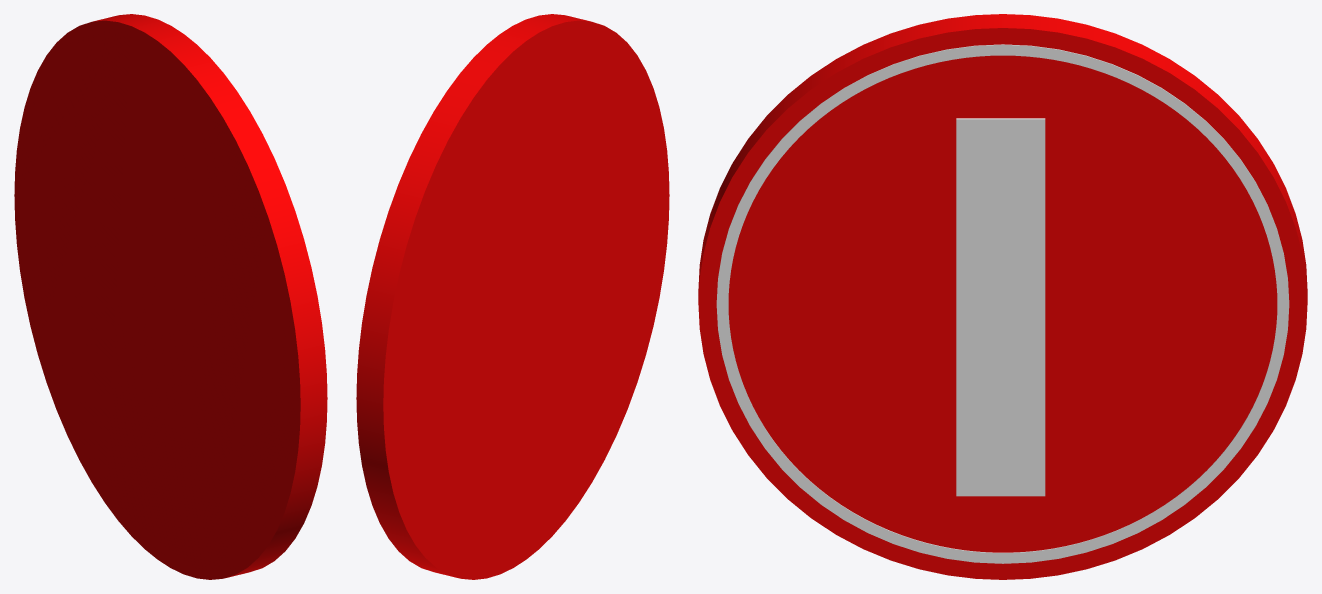
The model's file is 禁停标志牌-2.gltf.
3 views of the same model, side by side, from view 1: azimuth 30°, elevation 25°; view 2: azimuth 150°, elevation 25°; view 3: azimuth 270°, elevation 25° (orthographic). The views are drawn at different scales.
Parts seen in each view (by area): view 1: Default; view 2: Default; view 3: Default, Default_1.
Part boxes in pixels (x1,y1,x2,y2): Default: (14, 14, 327, 579); Default: (356, 14, 669, 579); Default: (698, 14, 1307, 579); Default_1: (716, 44, 1289, 563).
Bounding box in the file's own units: 0.0453 × 0.7737 × 0.7737.
